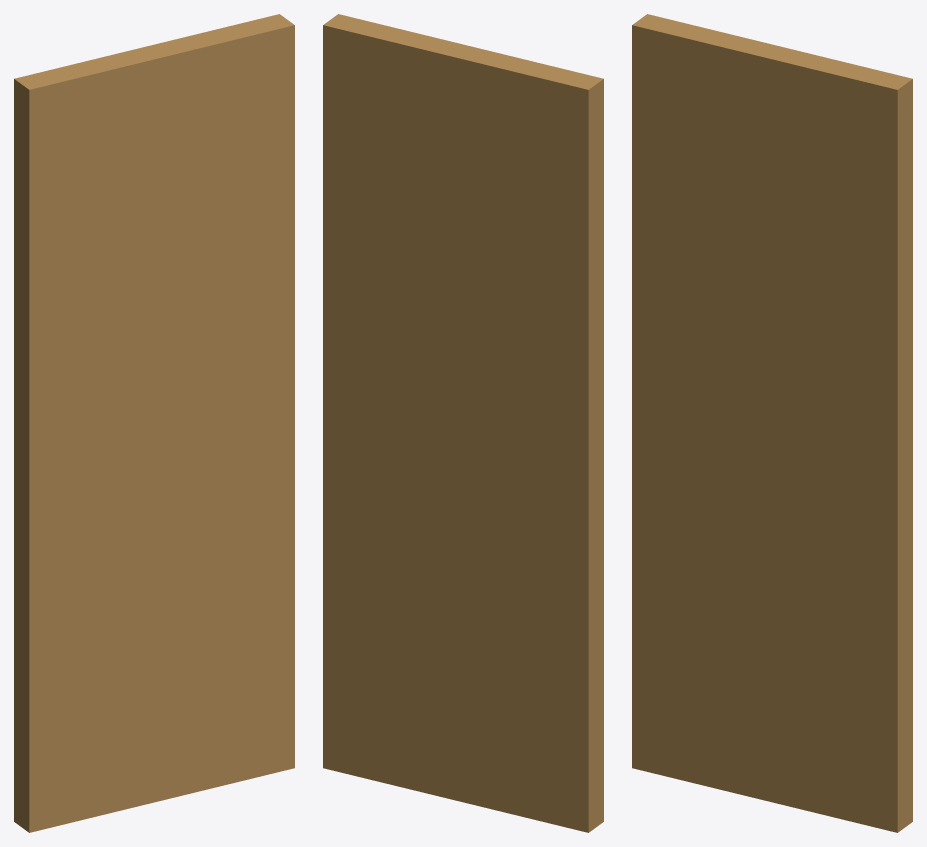
3 renders of one model, left to right at view 1: azimuth 30°, elevation 25°; view 2: azimuth 150°, elevation 25°; view 3: azimuth 330°, elevation 25°, orthographic.
Visible parts, largest first — view 1: FF-W103; view 2: FF-W103; view 3: FF-W103.
Boxes of the visible parts, x1,y1,x2,y2 form: FF-W103: [14, 14, 294, 832]; FF-W103: [323, 14, 603, 832]; FF-W103: [632, 14, 912, 832].
Bounding box in the file's own units: 0.905 × 2.42 × 0.09.
